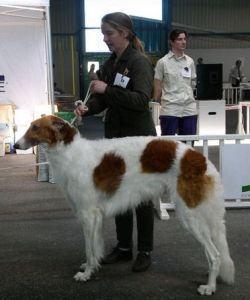borzoi: (6, 110, 244, 297)
